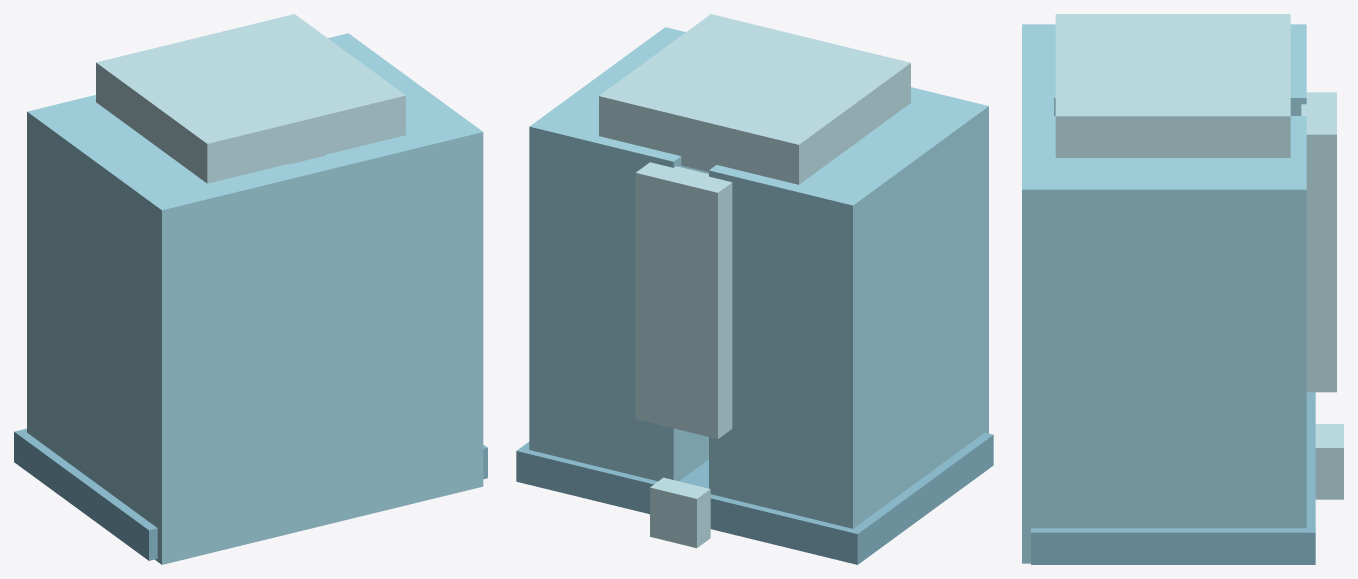
File: fantasma_tronco.glb
3 views of the same model, side by side, from view 1: azimuth 30°, elevation 25°; view 2: azimuth 150°, elevation 25°; view 3: azimuth 270°, elevation 25° (orthographic). The views are drawn at different scales.
Visible parts, largest first — view 1: fantasma_tronco; view 2: fantasma_tronco; view 3: fantasma_tronco.
Part boxes in pixels (box(x1,y1,x2,y2)): fantasma_tronco: box(14, 14, 487, 564); fantasma_tronco: box(516, 14, 993, 564); fantasma_tronco: box(1022, 14, 1343, 564).
Size of the model in its own units: 0.58 by 0.655 by 0.4525.
